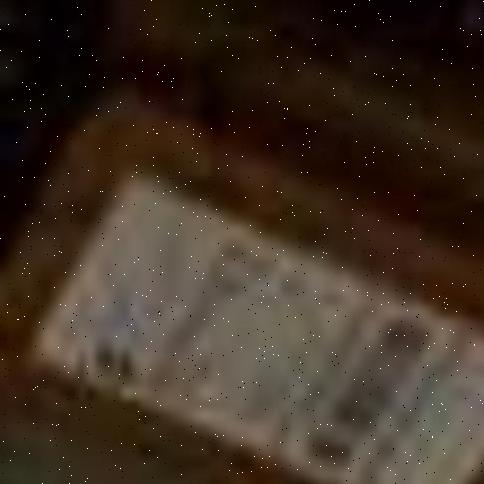Other: (0, 86, 484, 484)
